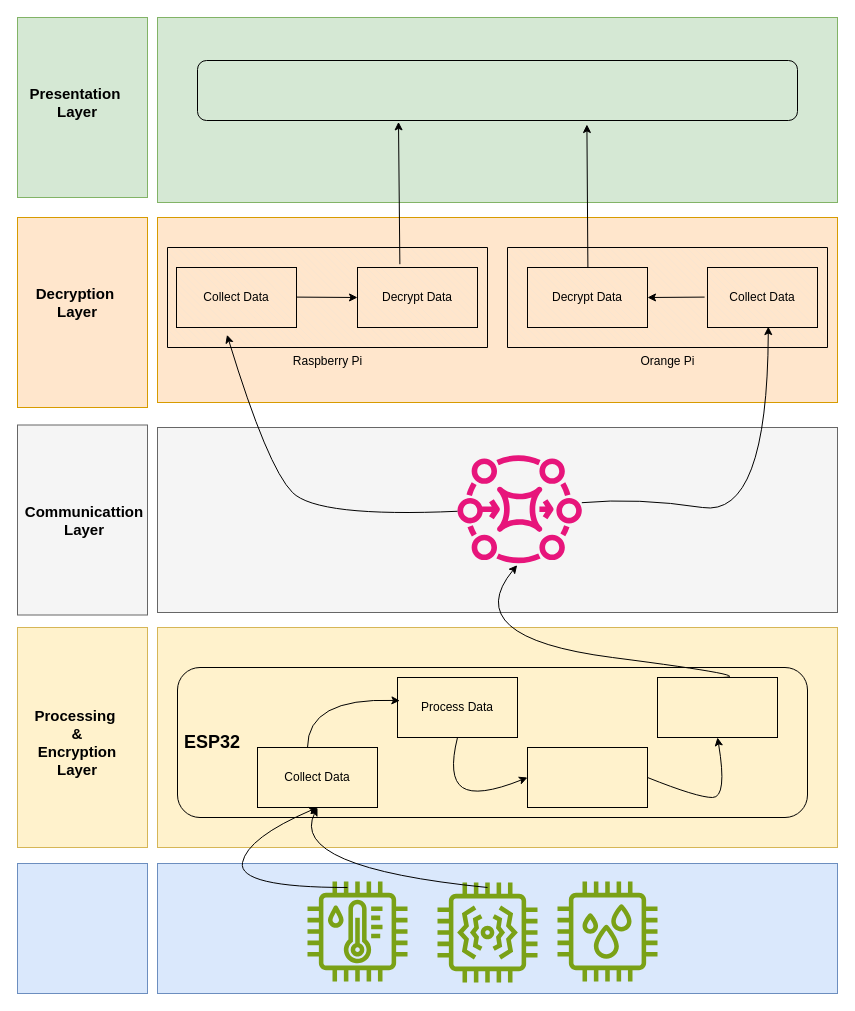
Some shapes in this 855 by 1011 pixel diagram are drawn without their labels. The box of each missing label's shape, as (x1, y1, x2, y2) in pixels:
Data Collection Layer: (16, 862, 148, 994)
Encrypt Data: (526, 746, 648, 808)
Graph, UI, Dashboard: (196, 60, 798, 120)
MQTT Broker: (457, 453, 581, 563)
Publish Data: (656, 676, 778, 738)
